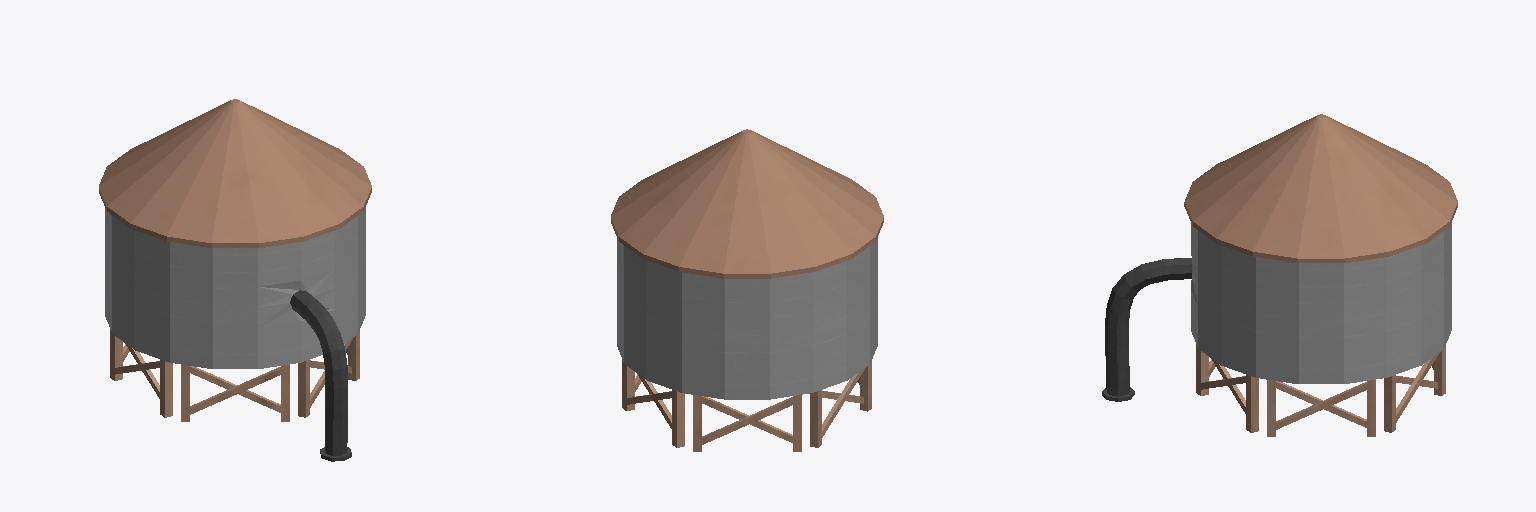
3 views of the same model, side by side, from view 1: azimuth 30°, elevation 25°; view 2: azimuth 150°, elevation 25°; view 3: azimuth 270°, elevation 25° (orthographic).
Visible parts, largest first — view 1: Rotoplas1:Material_037; view 2: Rotoplas1:Material_037; view 3: Rotoplas1:Material_037.
Part boxes in pixels (x1,y1,x2,y2): Rotoplas1:Material_037: (99, 99, 371, 461); Rotoplas1:Material_037: (611, 129, 883, 451); Rotoplas1:Material_037: (1102, 114, 1457, 436).
Size of the model in its own units: 12.37 by 14.14 by 16.35.
1 materials, 1 textured.